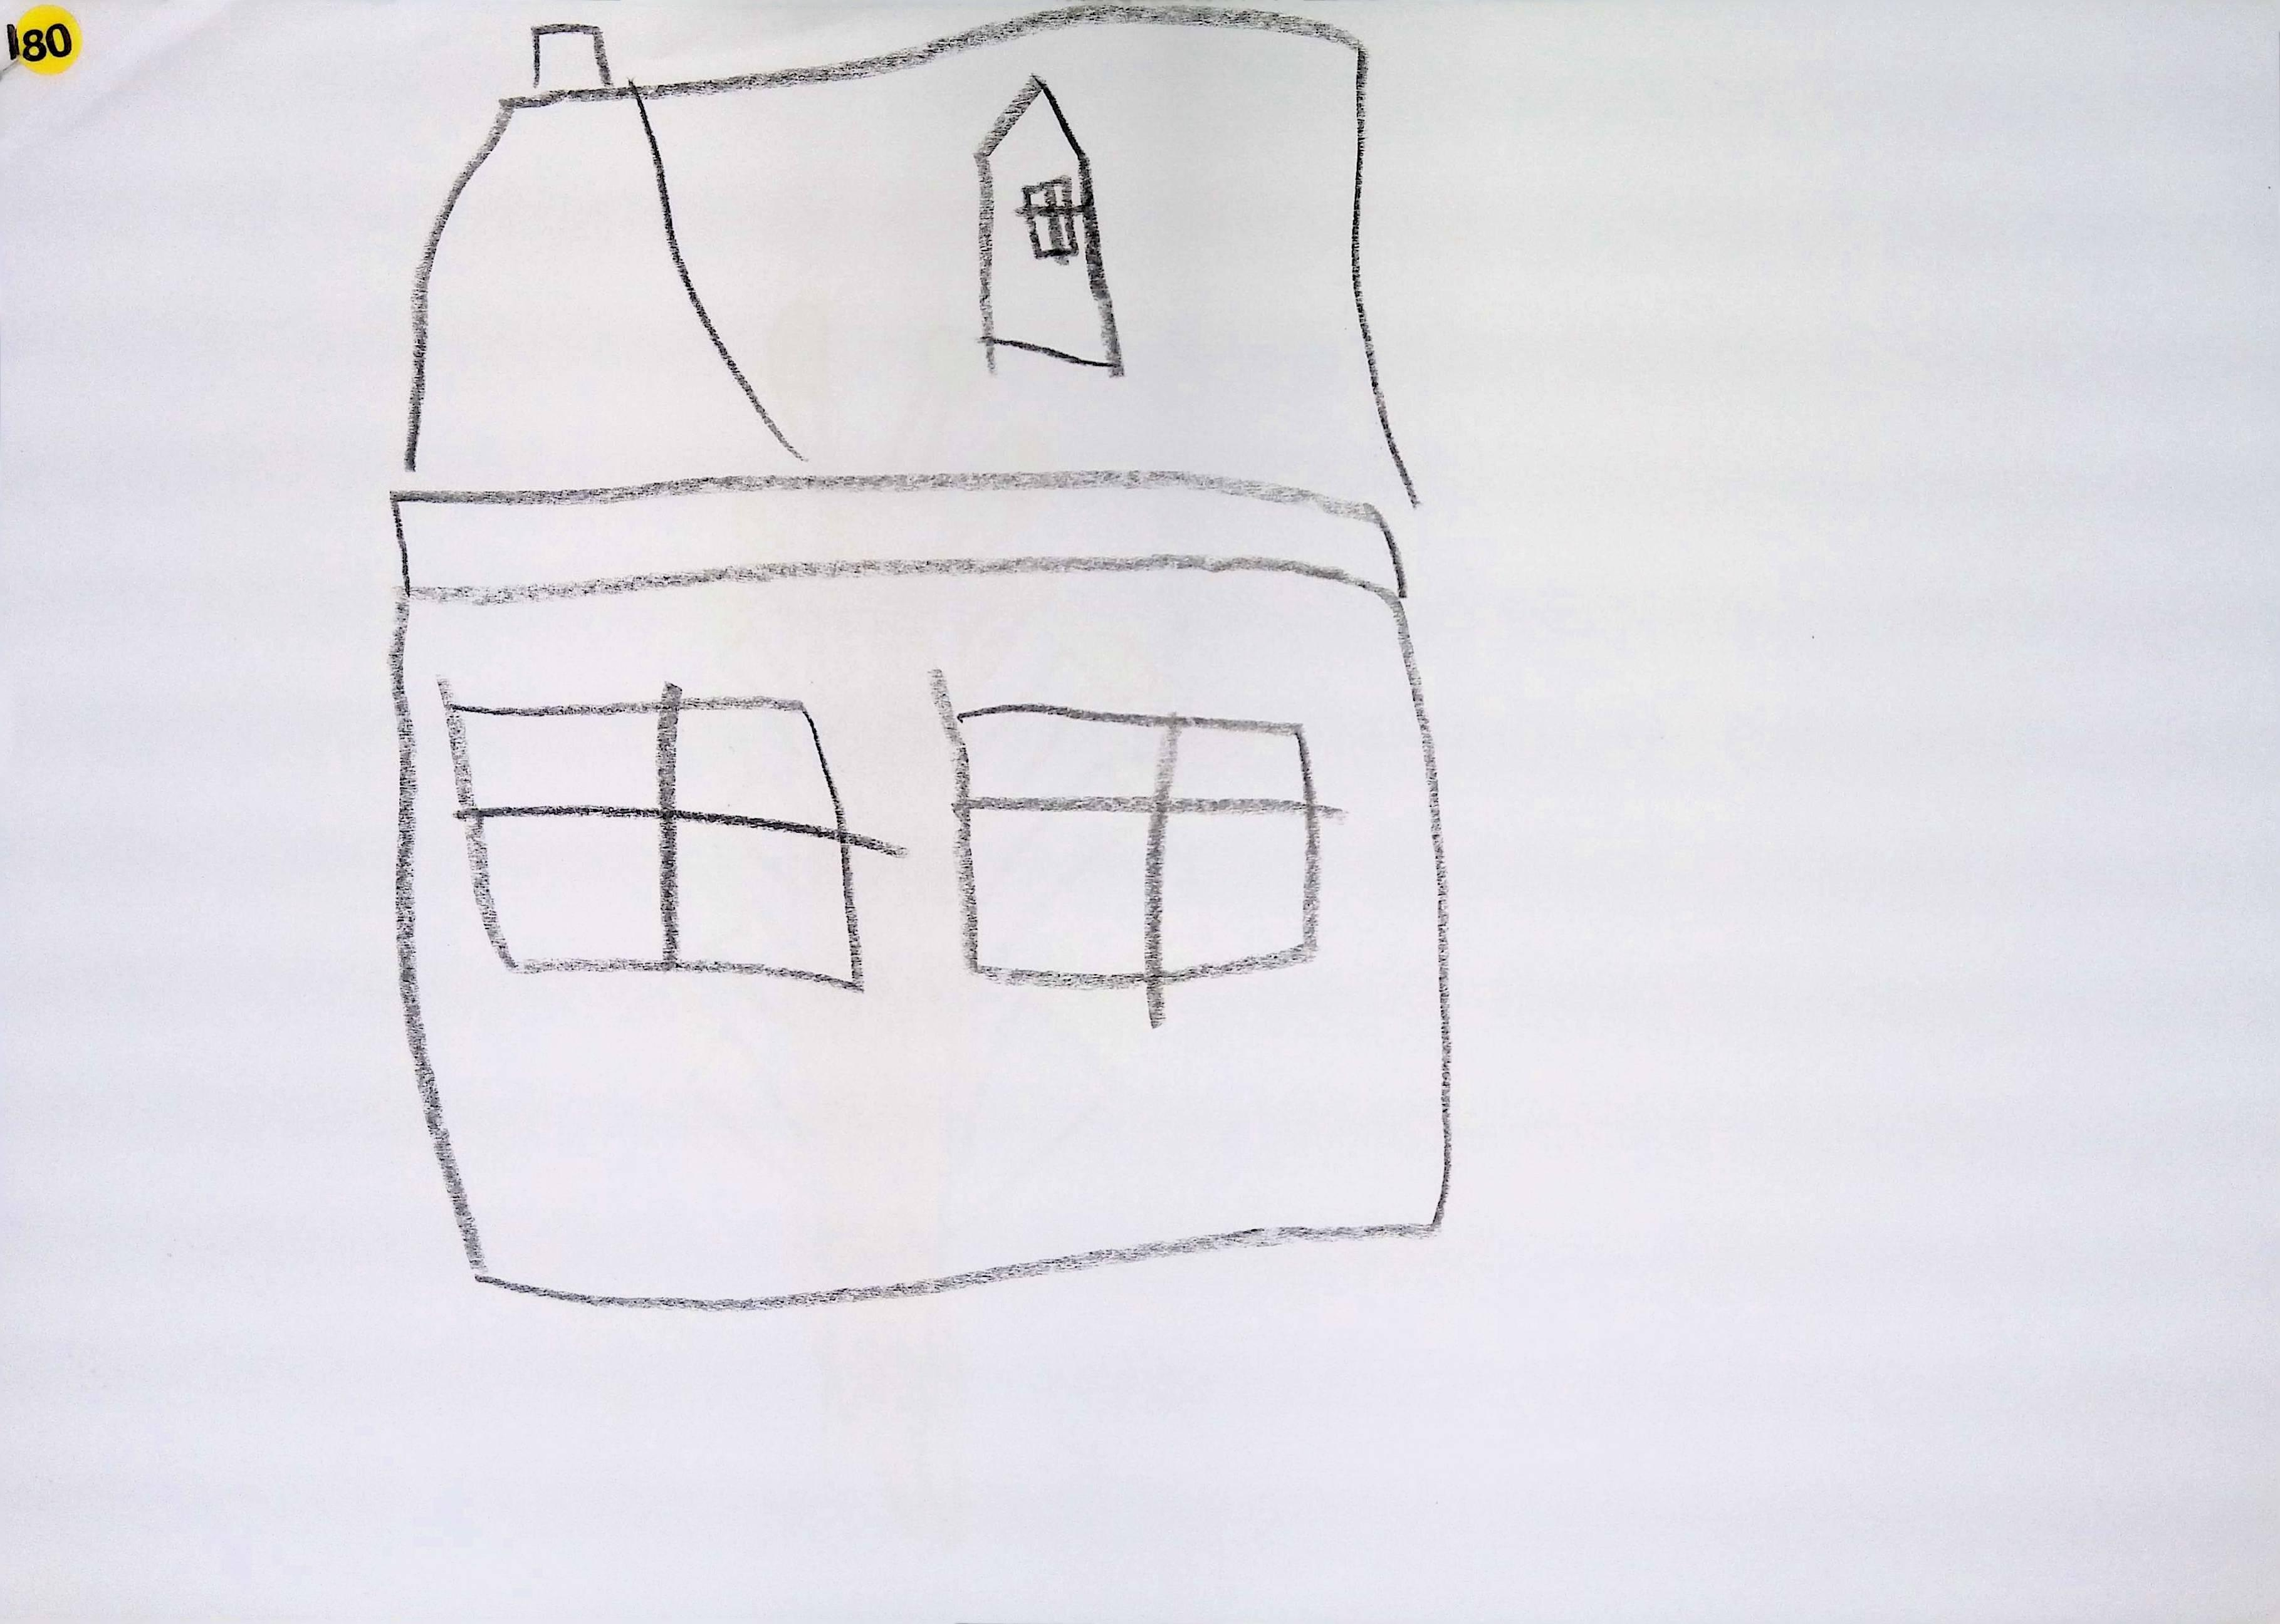chimney: (531, 19, 610, 86)
house: (390, 4, 1452, 1311)
roof: (410, 11, 1424, 524)
wall: (399, 564, 1450, 1309)
window: (447, 682, 860, 998), (951, 705, 1325, 997), (1016, 172, 1079, 260)
